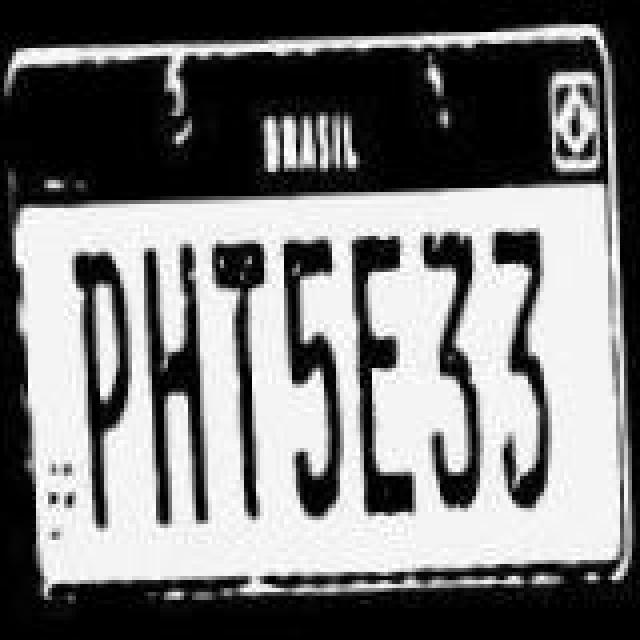3: (488, 224, 556, 512), (418, 232, 482, 512)
5: (282, 234, 346, 518)
E: (350, 232, 414, 516)
H: (138, 238, 210, 526)
P: (68, 246, 136, 530)
T: (210, 238, 274, 518)
